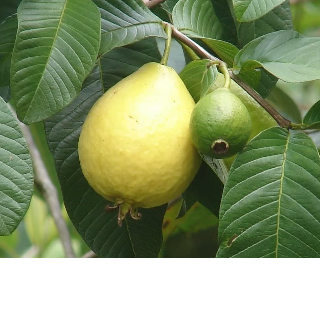oi: (73, 58, 216, 212), (191, 82, 254, 157)
